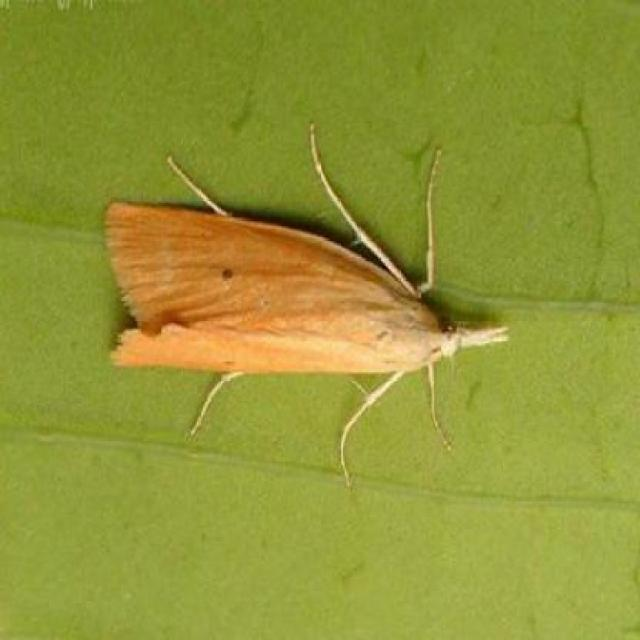stem-borer: (107, 200, 516, 411)
